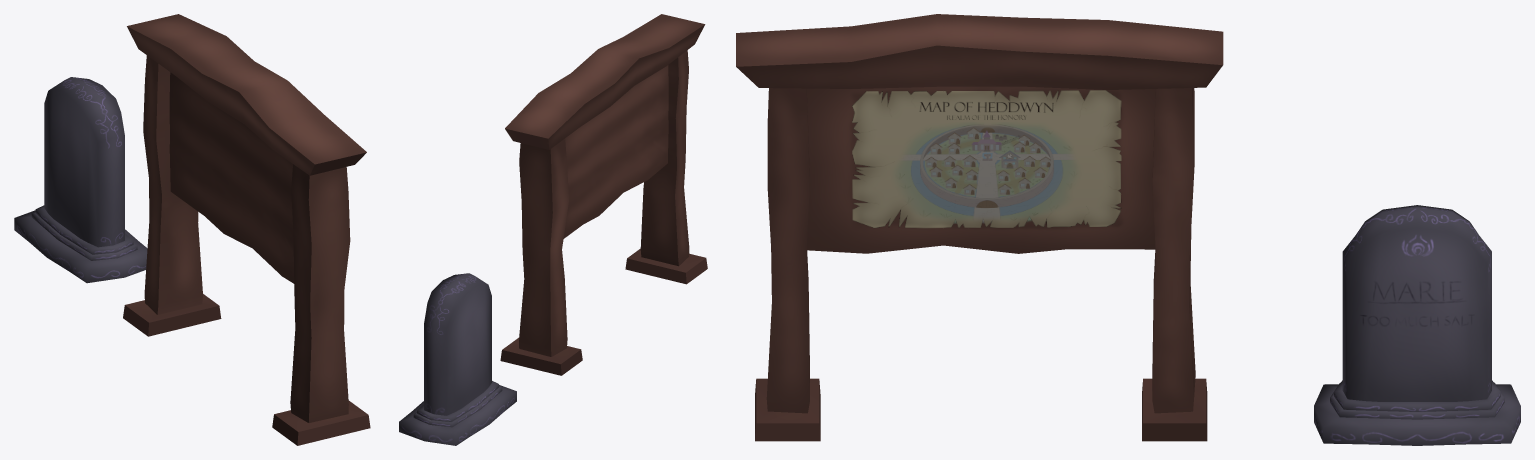
File: SM_Environment_Props_Marie.FBX
3 renders of one model, left to right at view 1: azimuth 30°, elevation 25°; view 2: azimuth 150°, elevation 25°; view 3: azimuth 270°, elevation 25°, orthographic. The views are drawn at different scales.
Visible parts, largest first — view 1: SM_RealmMap, SM_Tombstone_Marie; view 2: SM_RealmMap, SM_Tombstone_Marie; view 3: SM_RealmMap, SM_Tombstone_Marie.
Boxes of the visible parts, x1,y1,x2,y2 form: SM_RealmMap: (123, 14, 370, 445); SM_Tombstone_Marie: (14, 77, 147, 283); SM_RealmMap: (500, 14, 707, 375); SM_Tombstone_Marie: (399, 273, 516, 445); SM_RealmMap: (736, 14, 1223, 441); SM_Tombstone_Marie: (1314, 205, 1520, 445).
Bounding box in the file's own units: 44.97 × 160 × 293.
